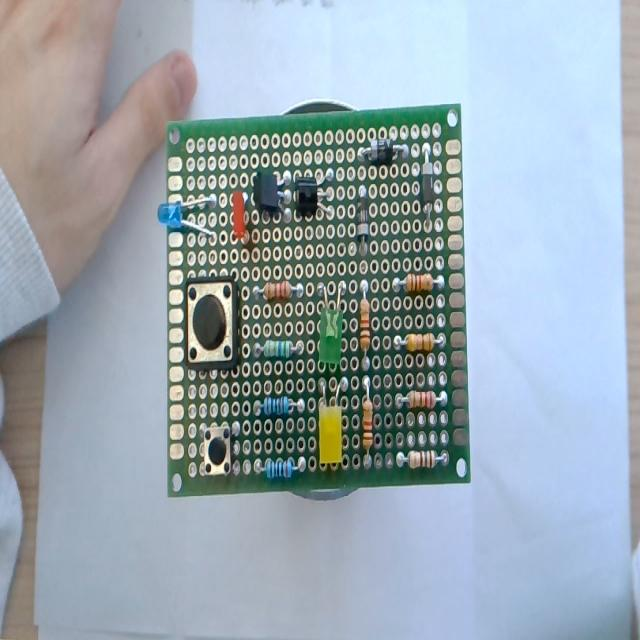diode: (420, 143, 436, 226), (359, 138, 406, 166), (356, 191, 370, 253)
led: (158, 195, 216, 240), (318, 280, 346, 366), (317, 381, 343, 463), (232, 185, 250, 248)
resistor: (256, 456, 303, 478), (396, 388, 446, 408), (394, 273, 442, 293), (253, 281, 301, 301), (396, 332, 444, 351), (254, 339, 302, 358), (359, 279, 370, 359), (259, 396, 302, 416), (362, 376, 373, 452), (398, 451, 446, 468)
switch: (186, 278, 237, 369), (202, 425, 232, 476)
transistor: (254, 172, 292, 222), (294, 174, 334, 219)
